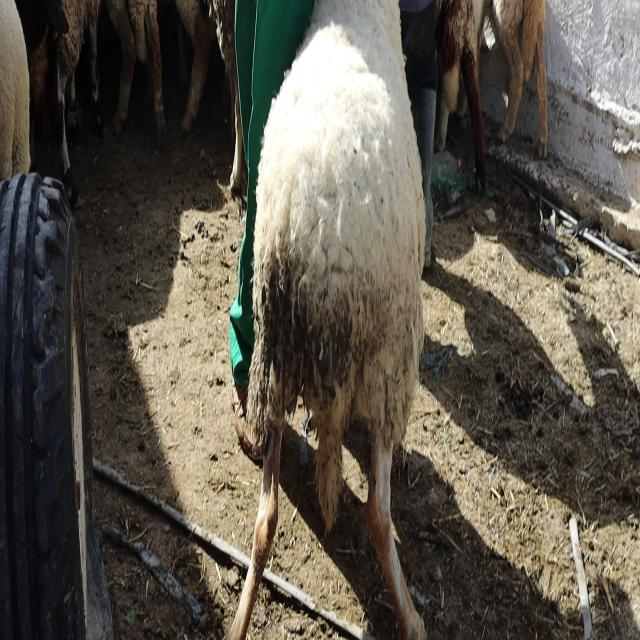Score_5: (226, 0, 426, 639)
